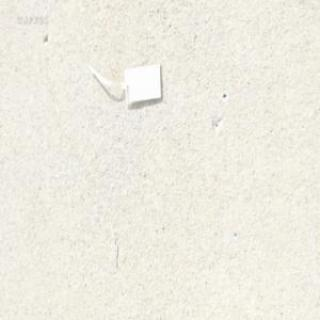LuggageTagtrack_idkeyframe: (86, 58, 163, 107)
